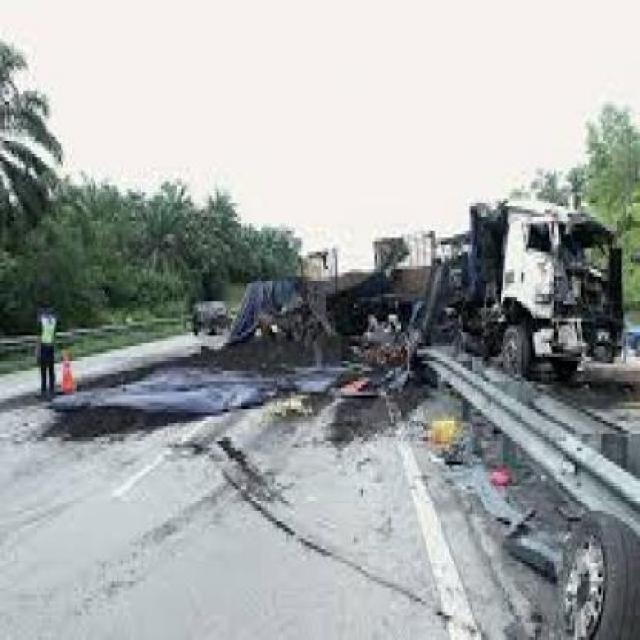accident: (229, 201, 640, 428)
